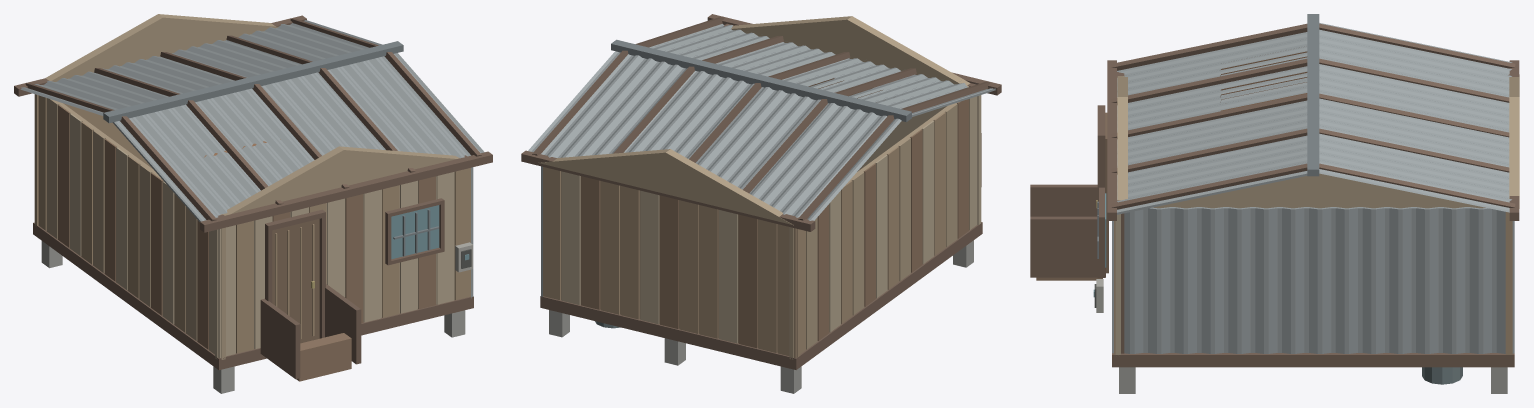
File: SH05_Raised_Mixed_Material_House.glb
3 renders of one model, left to right at view 1: azimuth 30°, elevation 25°; view 2: azimuth 150°, elevation 25°; view 3: azimuth 270°, elevation 25°, orthographic. The views are drawn at different scales.
Parts seen in each view (by area): view 1: 080_Gable_roof_right_sheet, 079_Gable_roof_left_sheet, 078_Rear_gable, 077_Front_gable, 007_Raised_floor, 059_Front_door_door, 083_Gable_roof_fascia_1, 081_Gable_roof_ridge_cap, 017_Front_wall_plank_09, 099_Handrail_left, 010_Front_wall_plank_02, 016_Front_wall_plank_08 (+45 smaller); view 2: 079_Gable_roof_left_sheet, 080_Gable_roof_right_sheet, 078_Rear_gable, 007_Raised_floor, 077_Front_gable, 081_Gable_roof_ridge_cap, 029_Rear_wall_plank_06, 031_Rear_wall_plank_08, 033_Rear_wall_plank_10, 025_Rear_wall_plank_02, 035_Rear_wall_plank_12, 026_Rear_wall_plank_03 (+41 smaller); view 3: 054_Right_metal_wall, 079_Gable_roof_left_sheet, 080_Gable_roof_right_sheet, 007_Raised_floor, 037_Left_wall_backing, 100_Handrail_right, 099_Handrail_left, 081_Gable_roof_ridge_cap, 085_Gable_roof_rafter_right_0, 093_Gable_roof_rafter_right_4, 087_Gable_roof_rafter_right_1, 083_Gable_roof_fascia_1 (+18 smaller).
Boxes of the visible parts, x1,y1,x2,y2 form: 080_Gable_roof_right_sheet: (112,53,484,221); 079_Gable_roof_left_sheet: (20,20,382,115); 078_Rear_gable: (45,14,278,81); 077_Front_gable: (220,146,459,215); 007_Raised_floor: (33,222,473,370); 059_Front_door_door: (272,219,319,343); 083_Gable_roof_fascia_1: (200,151,492,232); 081_Gable_roof_ridge_cap: (103,41,403,123); 017_Front_wall_plank_09: (363,190,381,322); 099_Handrail_left: (260,298,300,379); 010_Front_wall_plank_02: (236,220,253,353); 016_Front_wall_plank_08: (345,194,363,323); 079_Gable_roof_left_sheet: (528,51,901,220); 080_Gable_roof_right_sheet: (649,24,995,116); 078_Rear_gable: (538,149,793,225); 007_Raised_floor: (540,222,982,369); 077_Front_gable: (731,16,970,87); 081_Gable_roof_ridge_cap: (611,39,911,122); 029_Rear_wall_plank_06: (679,200,698,333); 031_Rear_wall_plank_08: (640,190,659,324); 033_Rear_wall_plank_10: (600,181,619,314); 025_Rear_wall_plank_02: (758,219,777,352); 035_Rear_wall_plank_12: (561,171,580,304); 026_Rear_wall_plank_03: (738,214,757,348); 054_Right_metal_wall: (1112,207,1514,353); 079_Gable_roof_left_sheet: (1319,23,1512,212); 080_Gable_roof_right_sheet: (1117,32,1307,214); 007_Raised_floor: (1112,353,1514,367); 037_Left_wall_backing: (1153,173,1485,208); 100_Handrail_right: (1030,216,1105,277); 099_Handrail_left: (1030,184,1097,216); 081_Gable_roof_ridge_cap: (1307,14,1319,176); 085_Gable_roof_rafter_right_0: (1111,23,1307,70); 093_Gable_roof_rafter_right_4: (1111,163,1307,209); 087_Gable_roof_rafter_right_1: (1111,58,1307,104); 083_Gable_roof_fascia_1: (1107,60,1116,220).
Size of the model in its own units: 4.85 by 3.45 by 6.45.
